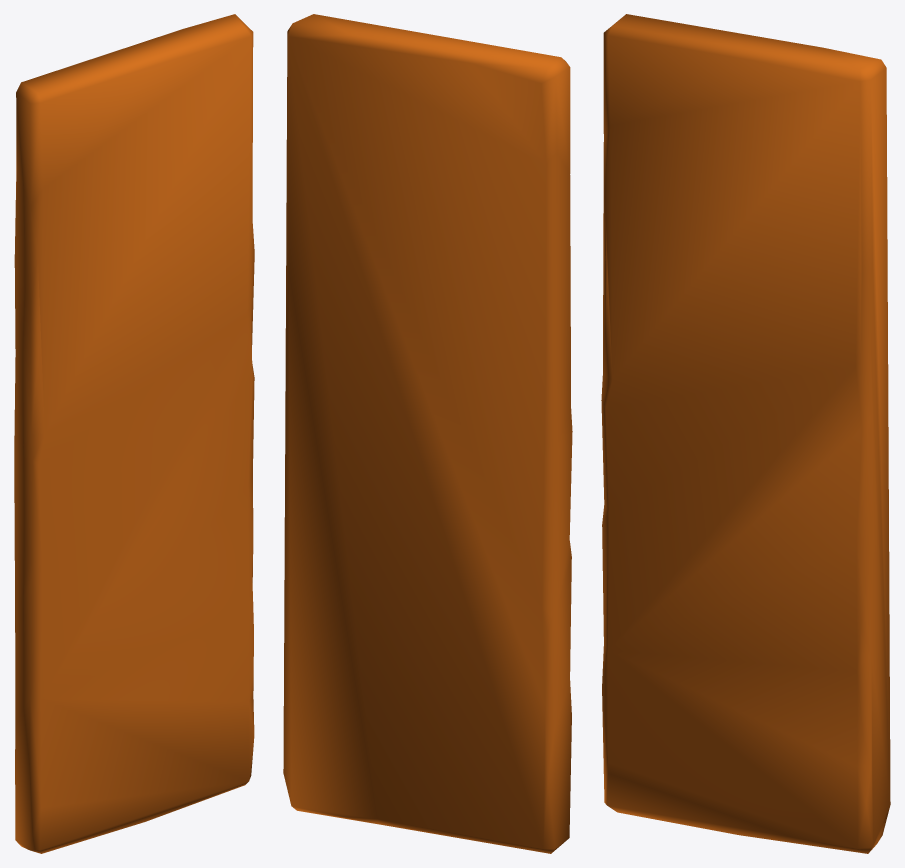
Rendered from TombstonesCoffinWood.fbx.
3 views of the same model, side by side, from view 1: azimuth 30°, elevation 25°; view 2: azimuth 150°, elevation 25°; view 3: azimuth 330°, elevation 25° (orthographic). The views are drawn at different scales.
Parts seen in each view (by area): view 1: TombstonesCoffinWood; view 2: TombstonesCoffinWood; view 3: TombstonesCoffinWood.
Boxes of the visible parts, left/top/right/bottom form: TombstonesCoffinWood: left=14, top=14, right=254, bottom=853; TombstonesCoffinWood: left=283, top=14, right=572, bottom=853; TombstonesCoffinWood: left=601, top=14, right=890, bottom=853.
Size of the model in its own units: 36.54 by 110 by 10.55.
